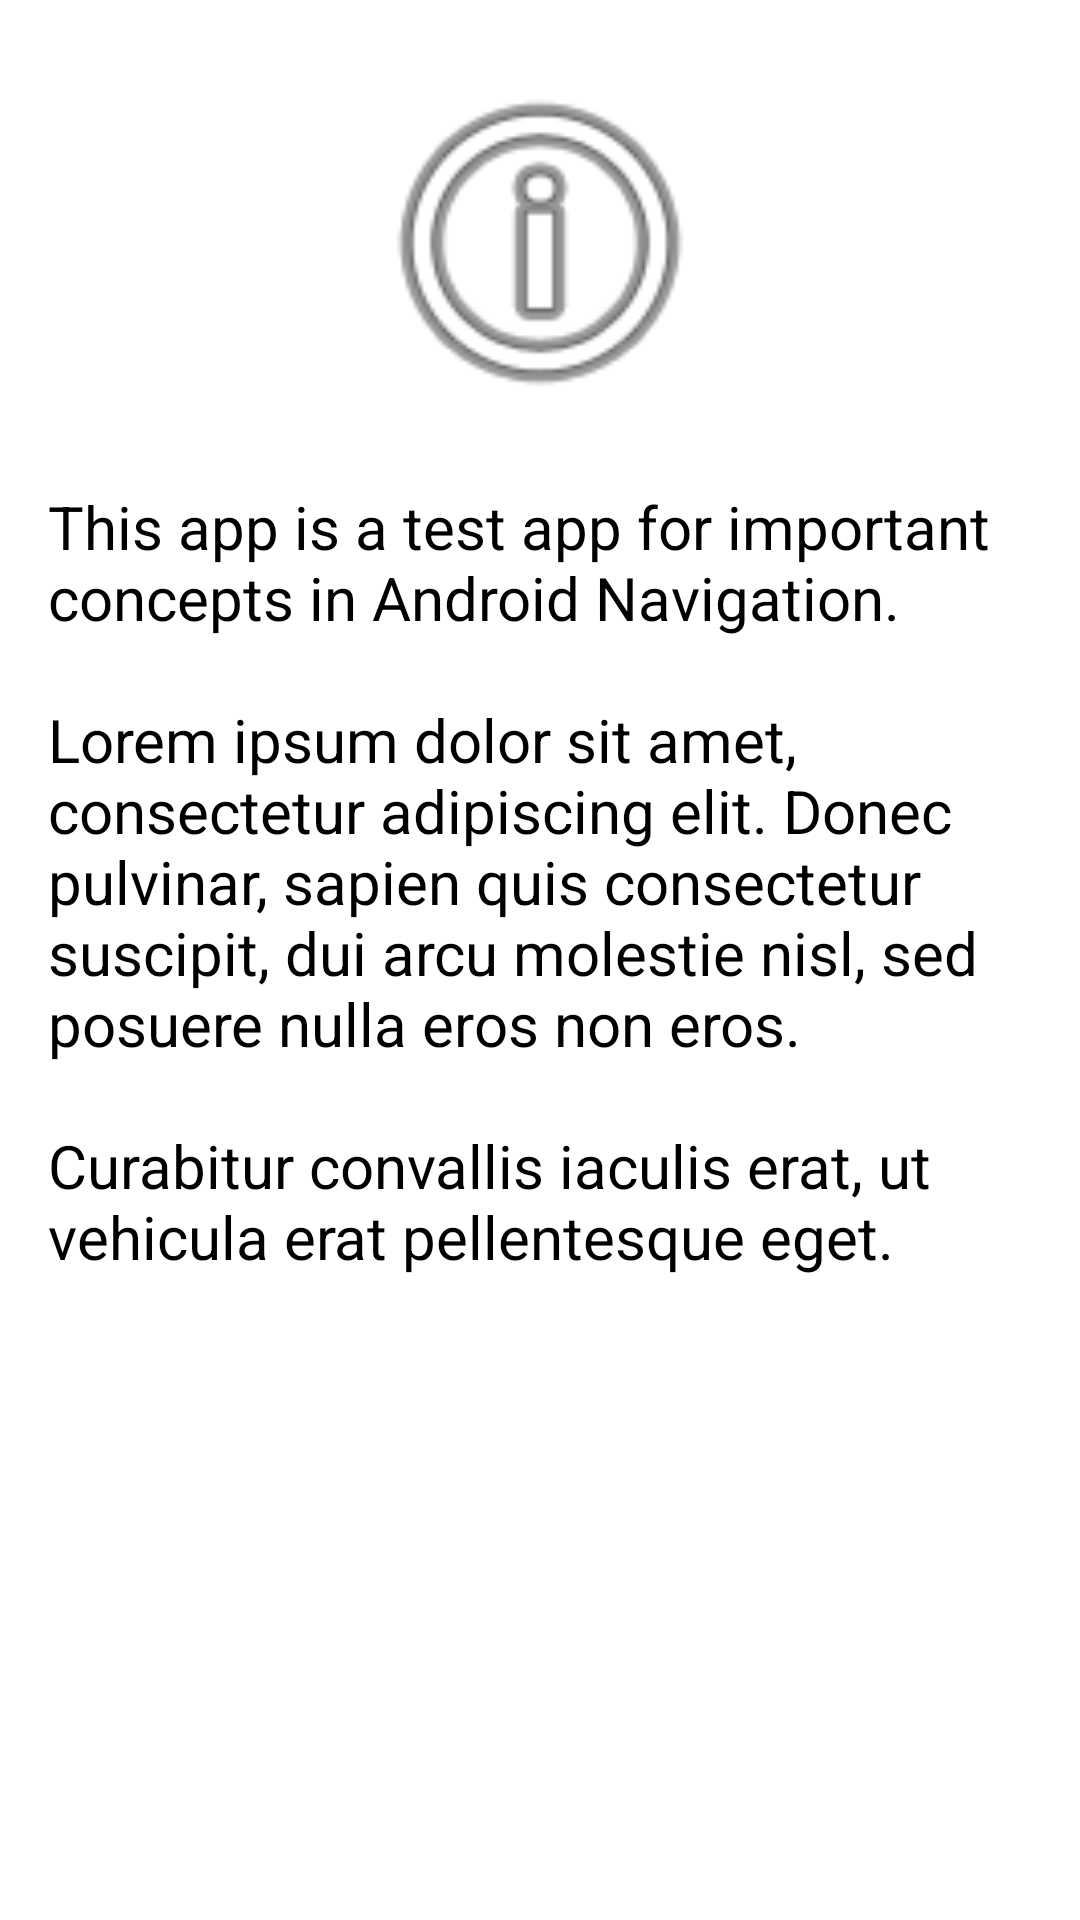

Screen size 1080w x 1920h. Icon name, then its box in pixels as (x1, y1, x2, y2):
info details: (399, 102, 681, 384)
